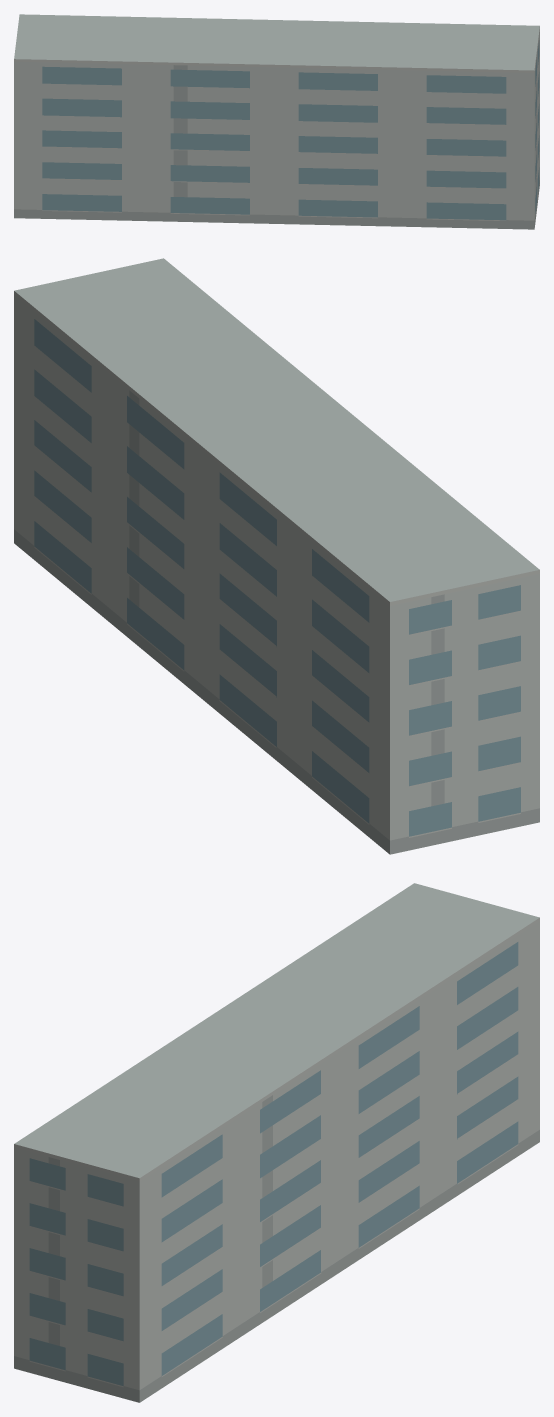
Rendered from residential-c678a7af-22fe-4cfc-8816-b889f027acbf.glb.
3 renders of one model, top to bottom at view 1: azimuth 30°, elevation 25°; view 2: azimuth 150°, elevation 25°; view 3: azimuth 270°, elevation 25°, orthographic. The views are drawn at different scales.
Parts seen in each view (by area): view 1: residential-c678a7af-22fe-4cfc-8816-b889f027acbf.tmp; view 2: residential-c678a7af-22fe-4cfc-8816-b889f027acbf.tmp; view 3: residential-c678a7af-22fe-4cfc-8816-b889f027acbf.tmp.
Boxes of the visible parts, <box> form: residential-c678a7af-22fe-4cfc-8816-b889f027acbf.tmp: <box>14,14,539,229</box>; residential-c678a7af-22fe-4cfc-8816-b889f027acbf.tmp: <box>14,258,539,854</box>; residential-c678a7af-22fe-4cfc-8816-b889f027acbf.tmp: <box>14,883,539,1402</box>.
Bounding box in the file's own units: 43 × 15.25 × 32.37.
